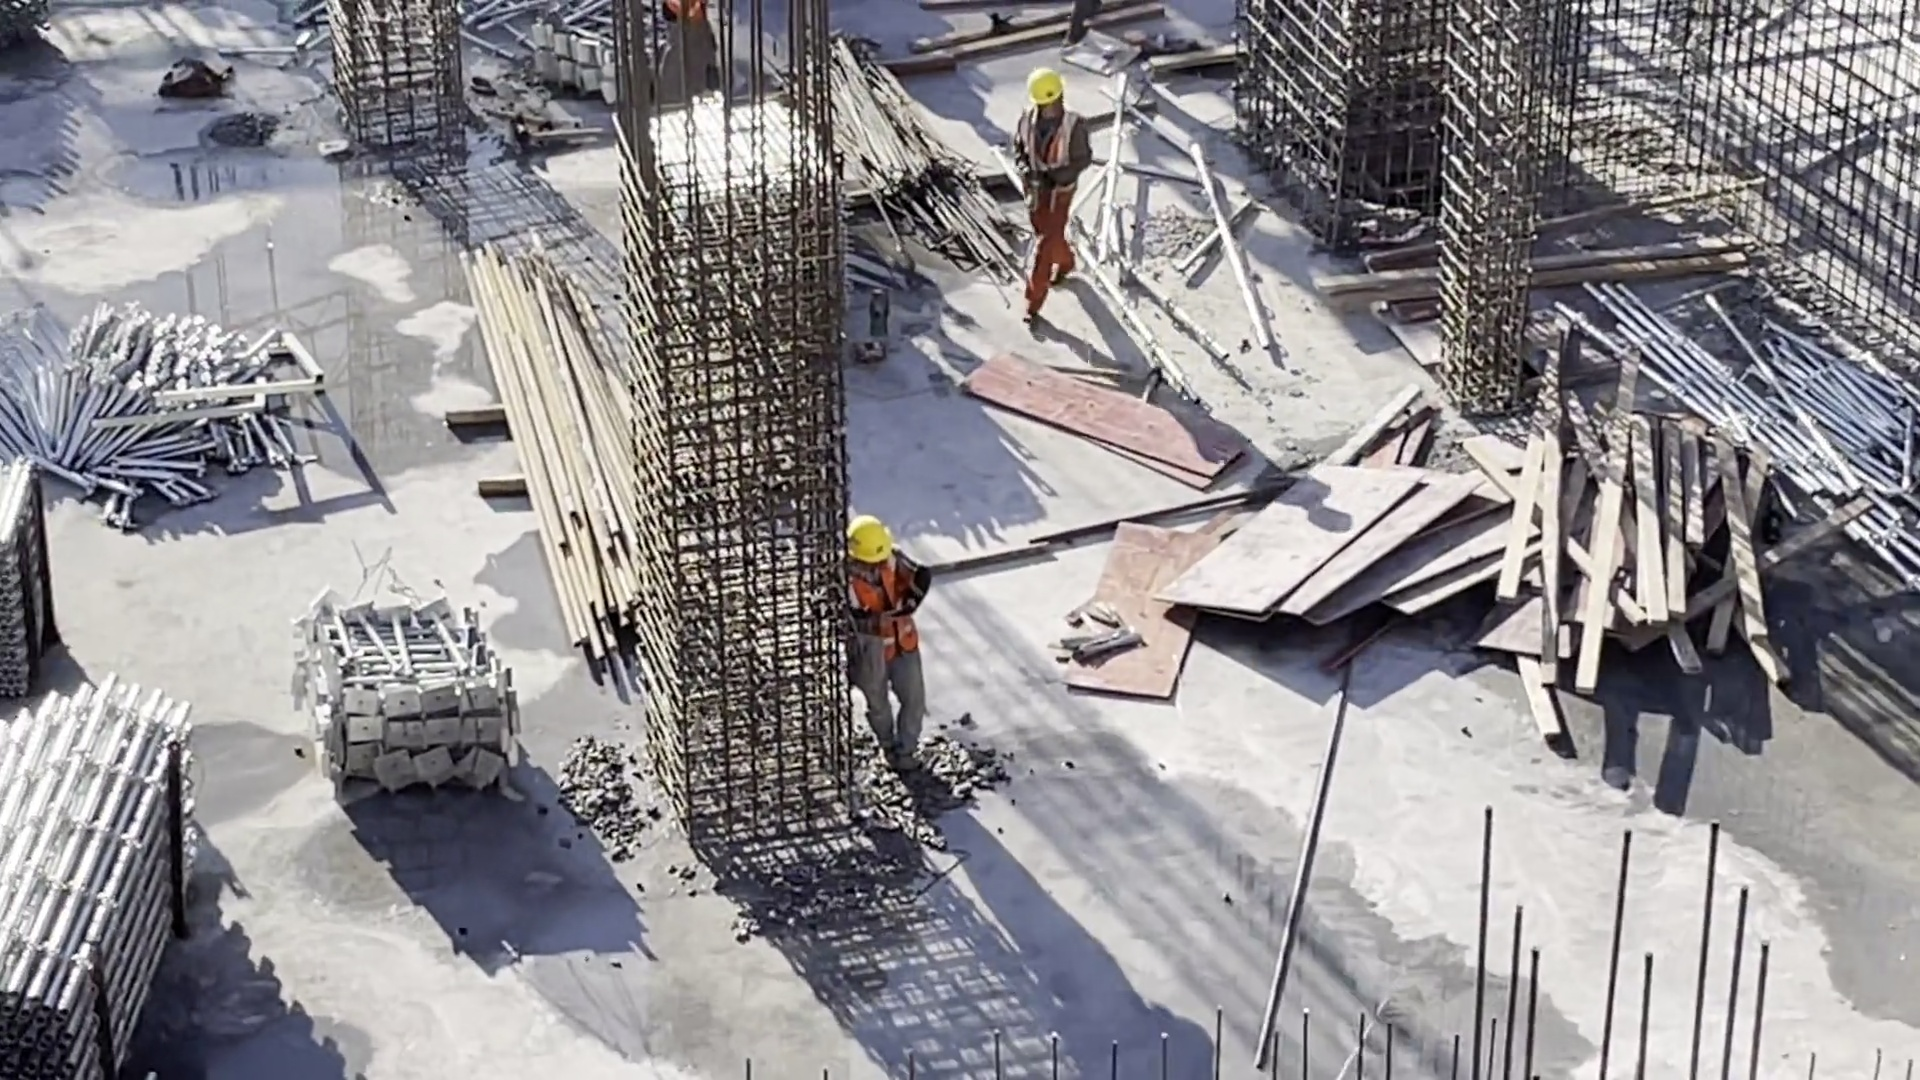board: (1143, 454, 1495, 641)
helmet: (848, 506, 897, 556), (1026, 62, 1061, 103)
person: (988, 67, 1101, 338), (832, 523, 933, 783)
scaffold: (1, 675, 205, 1072), (15, 308, 301, 511), (287, 588, 509, 794), (1794, 340, 1915, 485), (1, 444, 69, 687)
vest: (852, 550, 931, 648), (1018, 106, 1079, 198)
wood: (1504, 414, 1764, 683)
